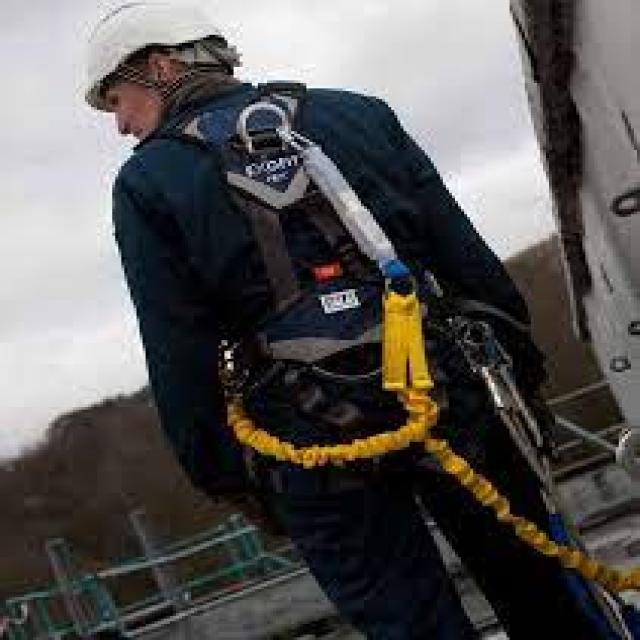harness: (232, 105, 640, 602)
